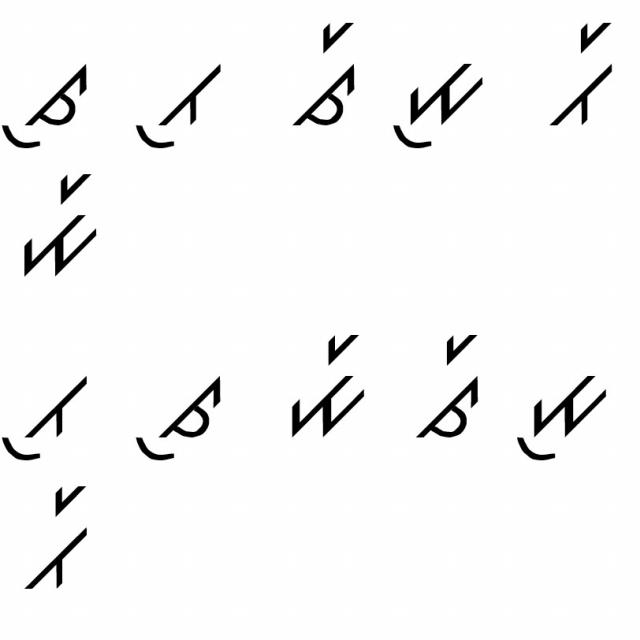bar: (26, 482, 102, 597), (548, 13, 616, 130)
baw: (0, 361, 98, 462), (131, 60, 227, 154)
car: (412, 325, 490, 443), (286, 16, 363, 134)
caw: (126, 366, 228, 465), (2, 62, 102, 152)
mar: (12, 167, 109, 278), (282, 331, 377, 440)
maw: (385, 44, 500, 153), (512, 363, 612, 463)
